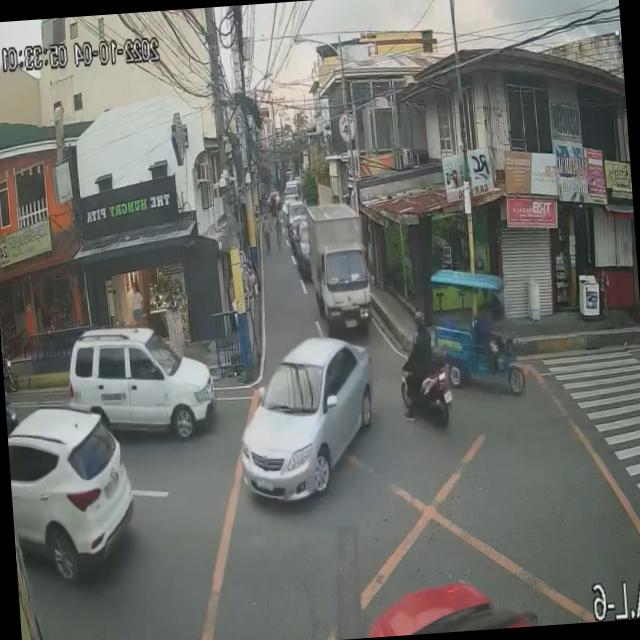full: (410, 310, 430, 334)
